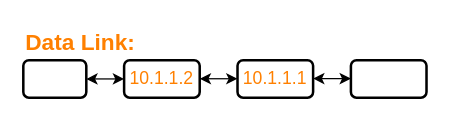
Image size: 449x120. Some labels were removed from this diagram. The centre of each missing label's shape, as x and y in pixels:
"Device" goes at (x=54, y=78).
"Internet" goes at (x=388, y=78).
